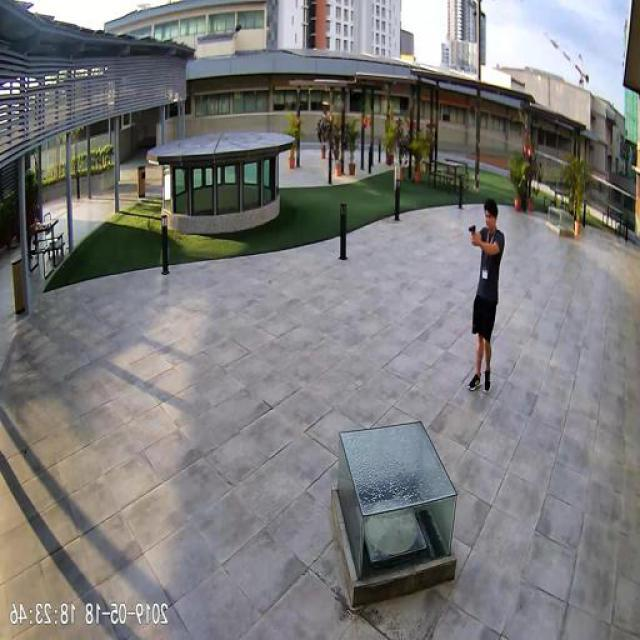Gun: (470, 222, 478, 245)
